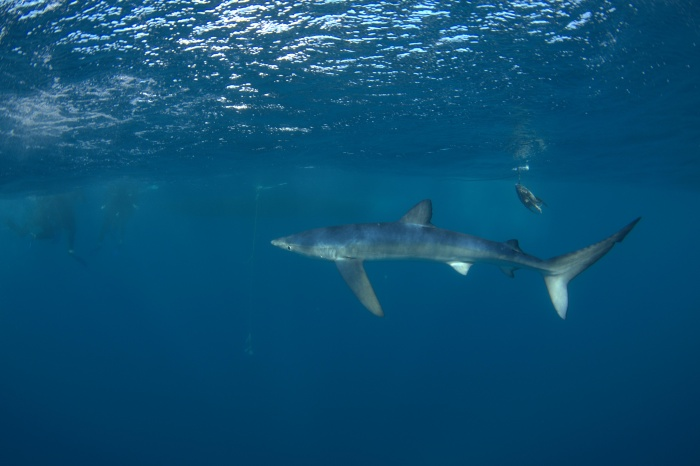Azul: (254, 190, 653, 341)
